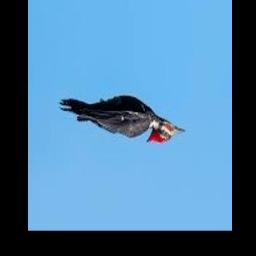Woodpecker: (58, 95, 184, 145)
